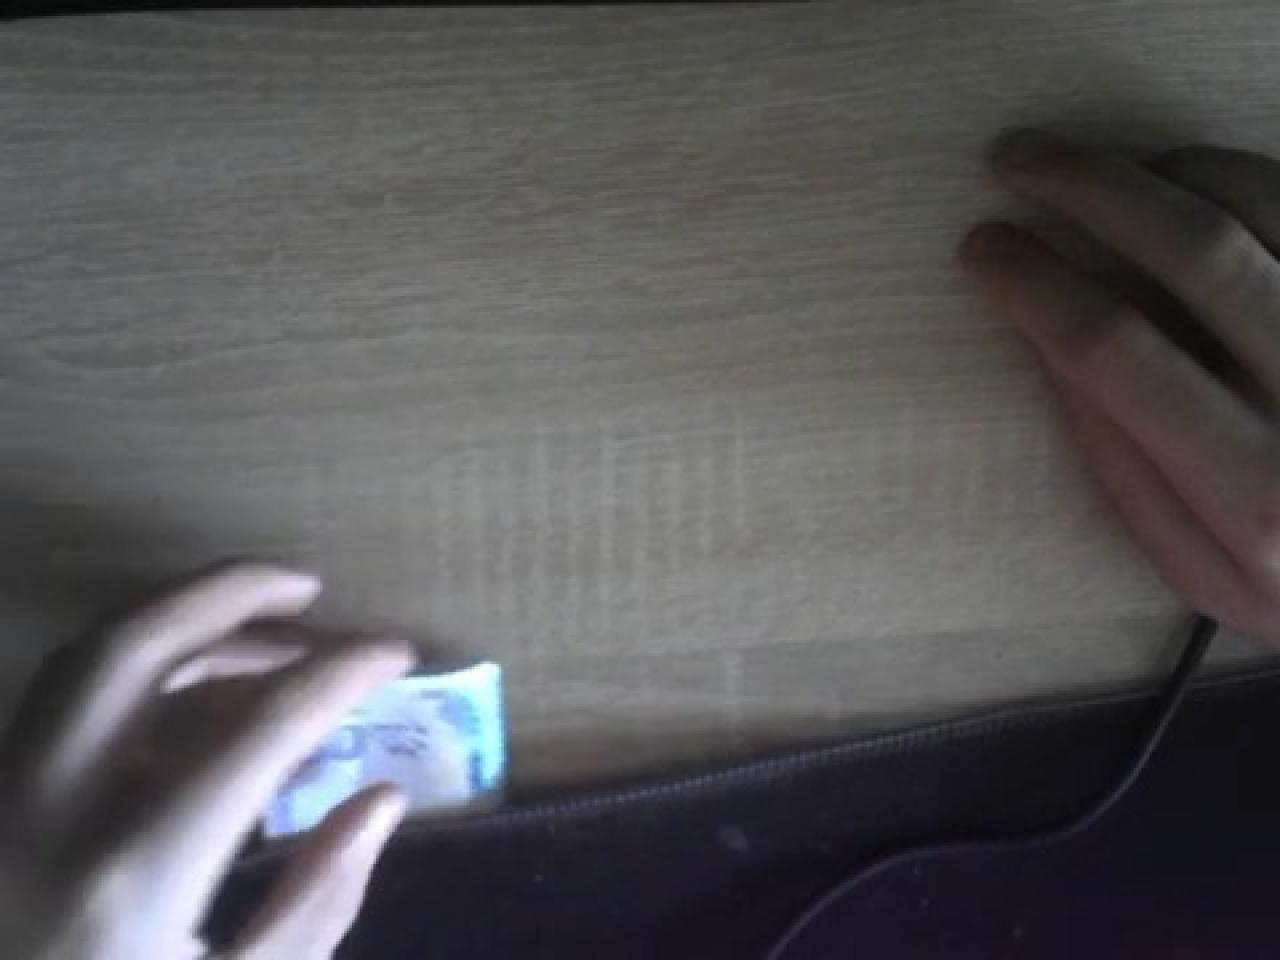20leva: (191, 642, 509, 960)
